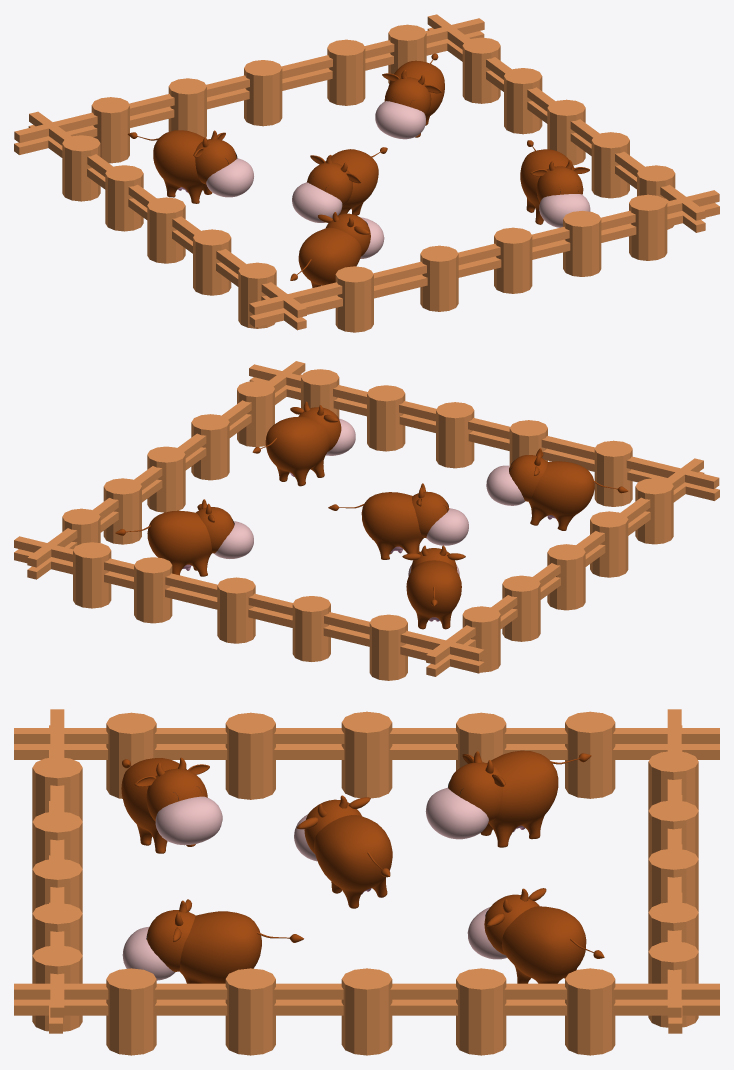
The model's file is kuhfarm (1).fbx.
3 renders of one model, top to bottom at view 1: azimuth 30°, elevation 25°; view 2: azimuth 150°, elevation 25°; view 3: azimuth 270°, elevation 25°, orthographic. The views are drawn at different scales.
Parts seen in each view (by area): view 1: zaun, body, body.002, body.004, mouth.001, body.003, mouth.004, mouth, kopf.004, kopf, kopf.001, kopf.003 (+4 smaller); view 2: zaun, body.003, body.001, body.002, body.004, body, mouth.004, kopf.002, mouth.002, kopf.004, mouth.001, kopf.001 (+2 smaller); view 3: zaun, body.004, body.001, body.003, body, mouth.002, body.002, mouth, kopf, kopf.002, kopf.003, mouth.003 (+3 smaller).
Part boxes in pixels (bbox=[...]): zaun: bbox=[14, 14, 719, 332]; body: bbox=[153, 130, 212, 203]; body.002: bbox=[298, 227, 361, 287]; body.004: bbox=[325, 149, 378, 215]; mouth.001: bbox=[375, 101, 425, 139]; body.003: bbox=[520, 149, 574, 224]; mouth.004: bbox=[292, 182, 342, 222]; mouth: bbox=[206, 158, 253, 197]; kopf.004: bbox=[307, 162, 352, 205]; kopf: bbox=[195, 139, 236, 184]; kopf.001: bbox=[384, 77, 431, 115]; kopf.003: bbox=[536, 166, 583, 202]; zaun: bbox=[14, 361, 719, 680]; body.003: bbox=[265, 416, 330, 486]; body.001: bbox=[147, 510, 211, 576]; body.002: bbox=[529, 461, 594, 530]; body.004: bbox=[361, 492, 423, 559]; body: bbox=[406, 560, 461, 629]; mouth.004: bbox=[426, 508, 468, 545]; kopf.002: bbox=[509, 455, 547, 501]; mouth.002: bbox=[486, 465, 525, 505]; kopf.004: bbox=[412, 491, 449, 538]; mouth.001: bbox=[214, 521, 253, 558]; kopf.001: bbox=[196, 507, 234, 553]; zaun: bbox=[14, 709, 719, 1055]; body.004: bbox=[314, 815, 392, 908]; body.001: bbox=[502, 906, 586, 983]; body.003: bbox=[179, 911, 261, 983]; body: bbox=[480, 750, 558, 847]; mouth.002: bbox=[155, 796, 222, 845]; body.002: bbox=[121, 758, 195, 853]; mouth: bbox=[425, 787, 488, 839]; kopf: bbox=[448, 762, 502, 822]; kopf.002: bbox=[146, 768, 207, 821]; kopf.003: bbox=[147, 910, 195, 971]; mouth.003: bbox=[122, 926, 175, 980].
Size of the model in its own units: 50 by 7.46 by 50.
